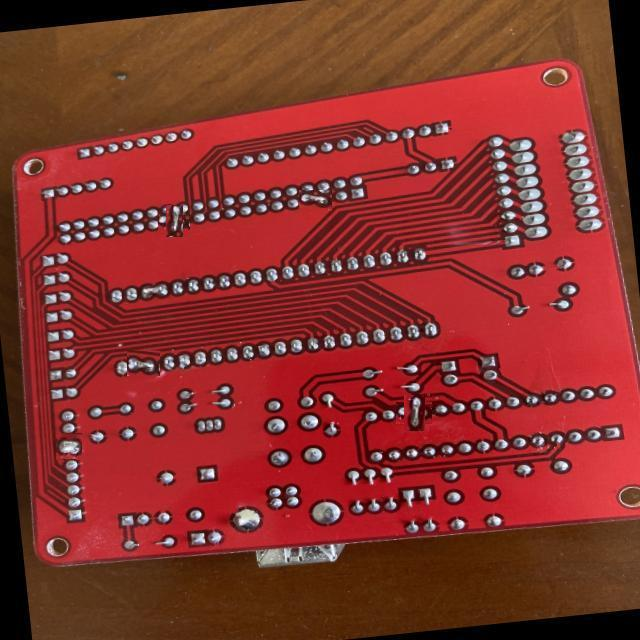damged: (127, 350, 160, 376), (400, 399, 429, 427), (56, 433, 82, 460), (300, 190, 334, 209), (136, 282, 170, 301), (162, 209, 186, 233)
